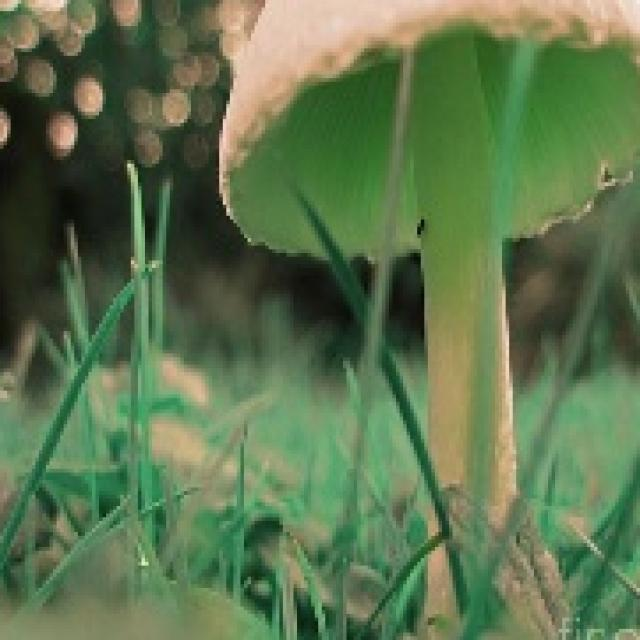mushroom: (208, 0, 640, 640)
